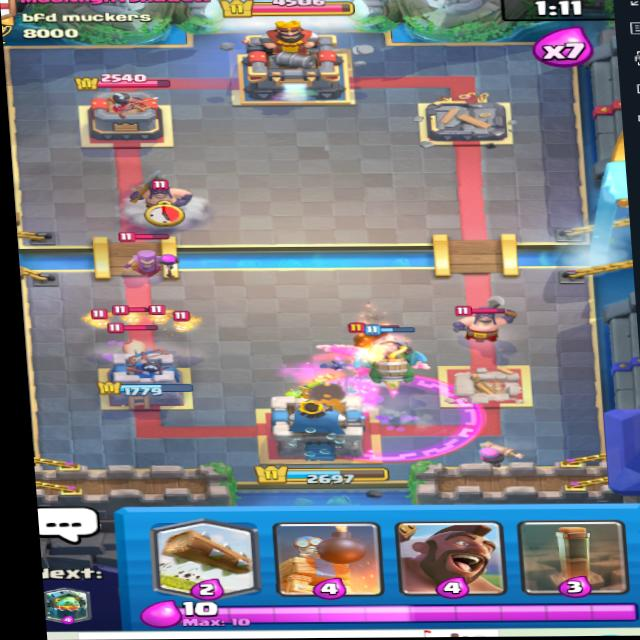executioner: (129, 174, 213, 219), (451, 300, 517, 345)
mother-witch: (110, 225, 186, 280)
pig: (111, 327, 161, 366)
rage: (302, 376, 483, 459)
